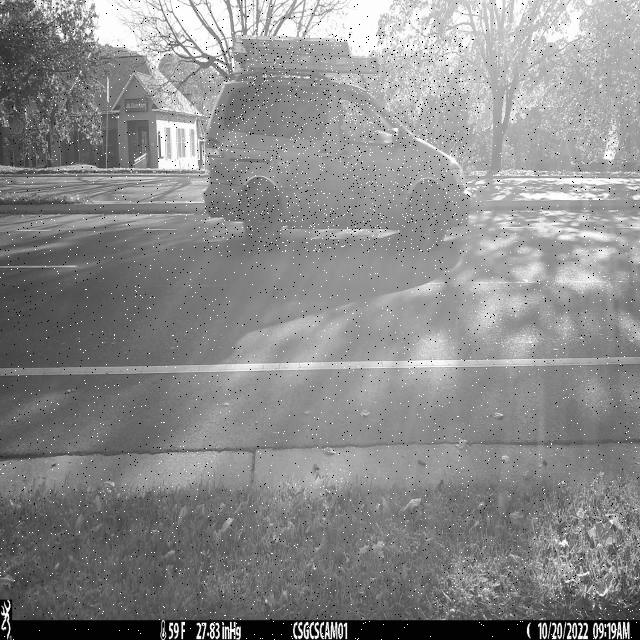Van: (203, 35, 469, 252)
